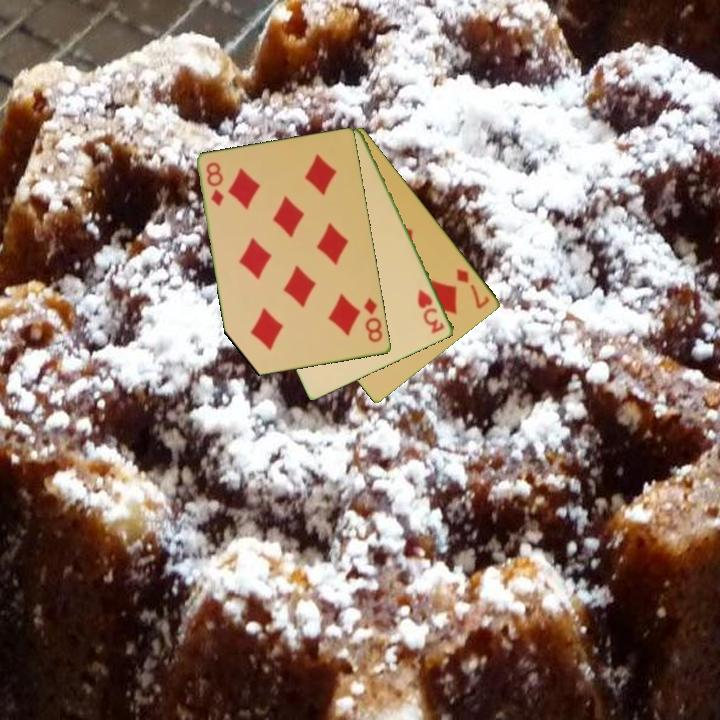3h: (414, 286, 448, 337)
7d: (453, 265, 493, 312)
8d: (361, 295, 386, 346), (203, 159, 227, 209)
